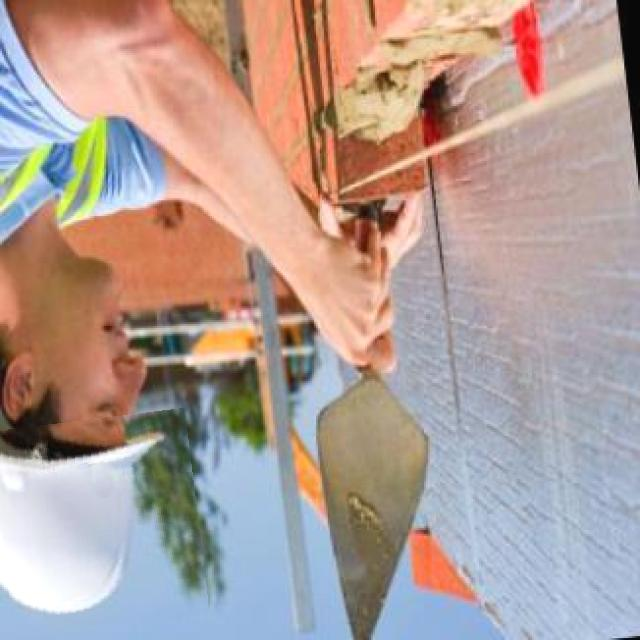helmet: (0, 414, 202, 633)
